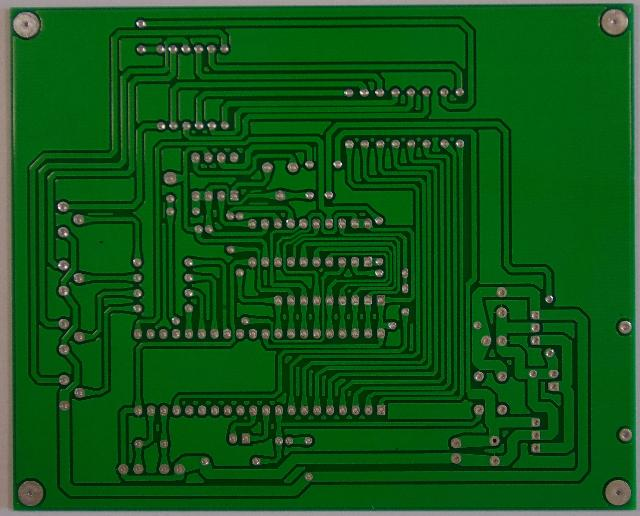spurious_copper: (85, 210, 115, 219), (310, 144, 320, 162), (247, 200, 269, 208), (160, 200, 168, 220), (248, 188, 264, 194)
